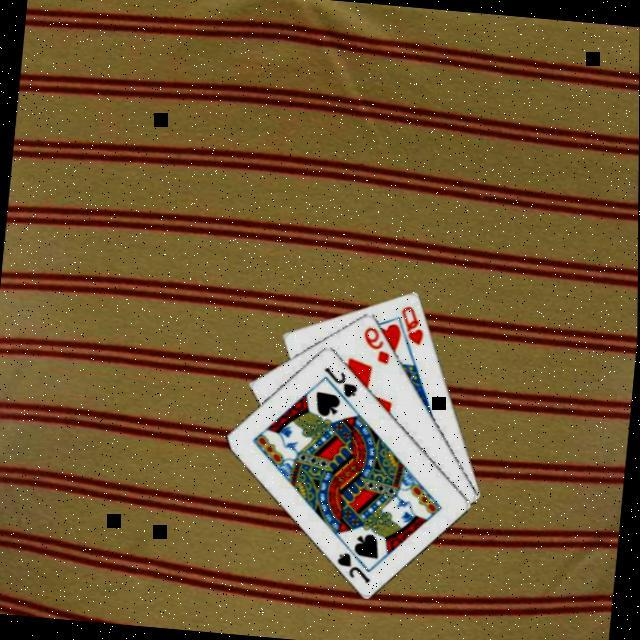9D: (358, 324, 393, 368)
JS: (318, 365, 361, 402), (331, 550, 374, 586)
QH: (394, 303, 428, 349)
